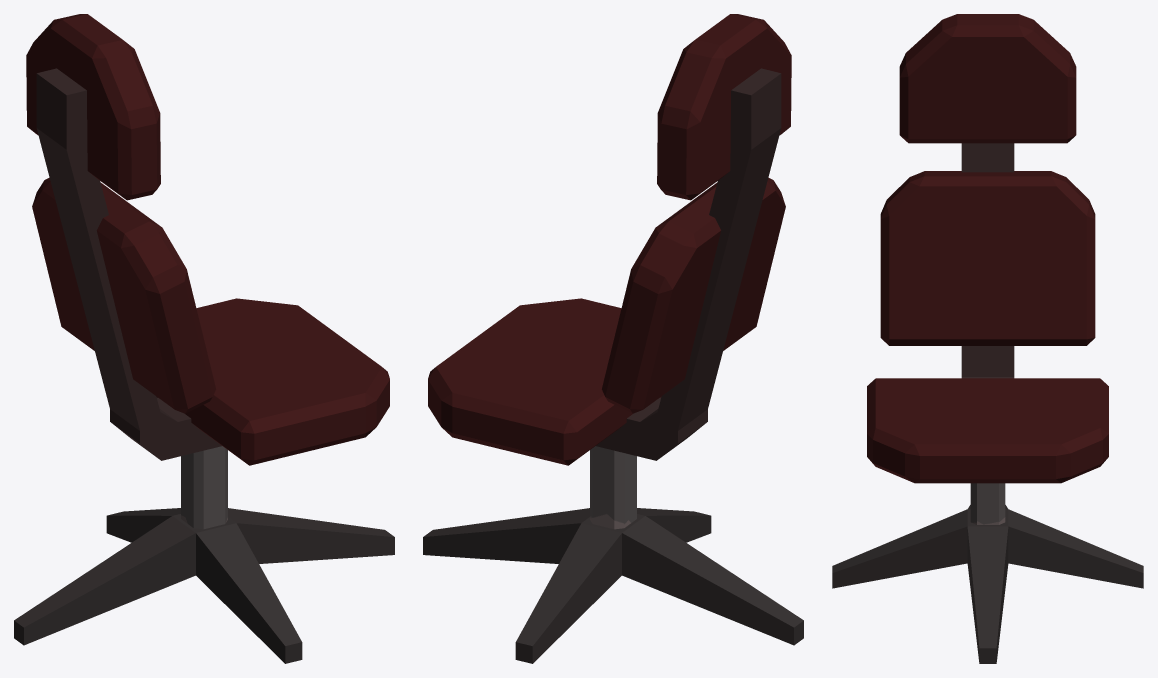
Rendered from bossChair.obj.
3 views of the same model, side by side, from view 1: azimuth 30°, elevation 25°; view 2: azimuth 150°, elevation 25°; view 3: azimuth 270°, elevation 25° (orthographic). The views are drawn at different scales.
Visible parts, largest first — view 1: Cube.005, Cube, Cube.001, Cube.003, Cube.002, Cube.004; view 2: Cube.005, Cube, Cube.001, Cube.003, Cube.002, Cube.004; view 3: Cube.001, Cube, Cube.002, Cube.005, Cube.003, Cube.004.
Part boxes in pixels (x1,y1,x2,y2): Cube.005: (14, 508, 394, 663); Cube: (156, 298, 389, 465); Cube.001: (32, 177, 215, 413); Cube.003: (36, 68, 221, 460); Cube.002: (26, 14, 160, 200); Cube.004: (181, 446, 227, 529); Cube.005: (423, 508, 803, 663); Cube: (428, 298, 661, 465); Cube.001: (602, 177, 785, 413); Cube.003: (596, 68, 781, 460); Cube.002: (657, 14, 791, 200); Cube.004: (590, 446, 636, 529); Cube.001: (880, 171, 1095, 345); Cube: (867, 378, 1108, 483); Cube.002: (899, 14, 1076, 143); Cube.005: (832, 505, 1143, 663); Cube.003: (961, 143, 1014, 378); Cube.004: (970, 483, 1005, 524).
Bounding box in the file's own units: 4.31 × 6.59 × 3.59.
6 materials, 6 textured.
